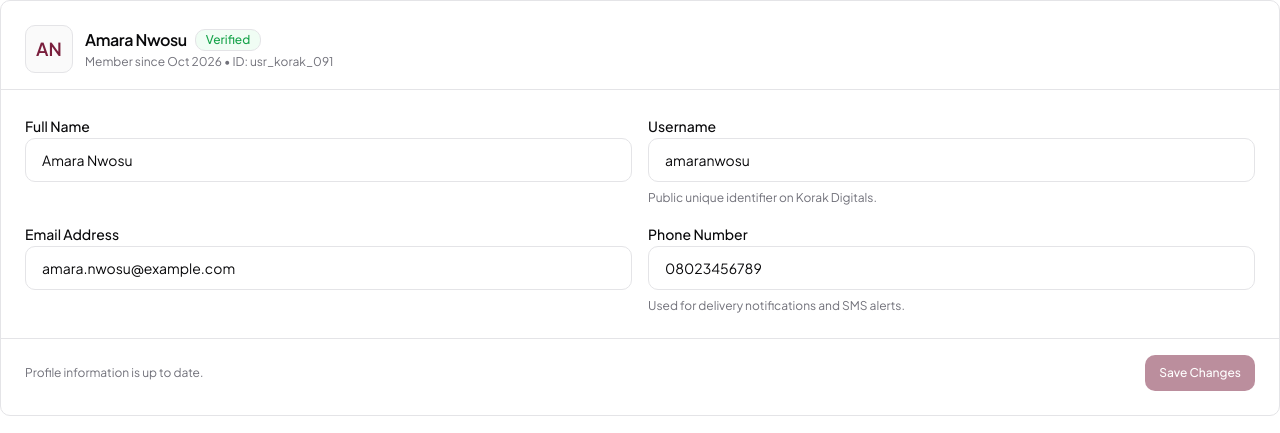
Test: ProfileEditForm (F13.1) › validates required fields and name length
Replace the text in the field labelled "Full Name" with "A" at (328, 160), box [25,138,632,182]
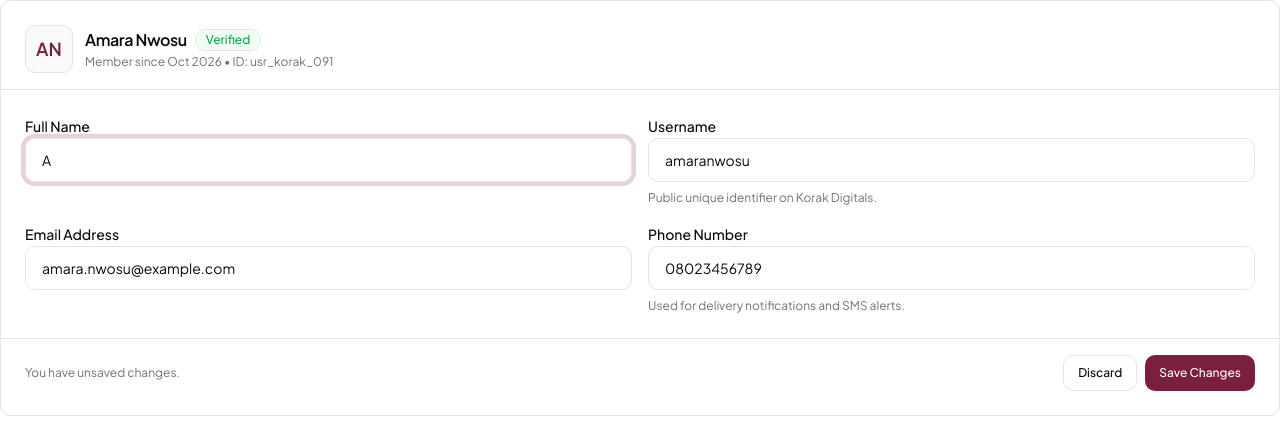
Click the button "Save Changes" at (1200, 373), box [1145,355,1255,391]
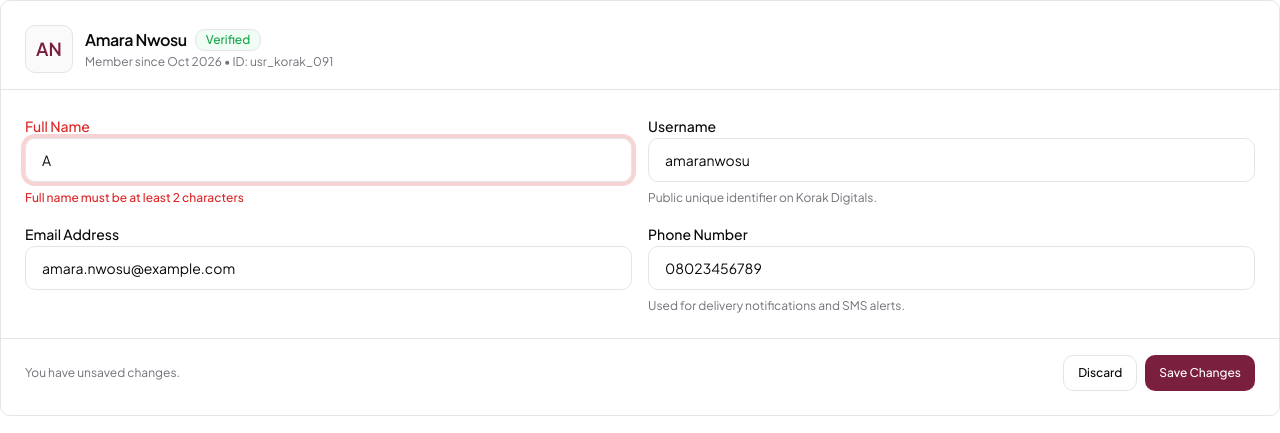
Expected: the text "Full name must be at least 2 characters" is shown, [25,190,244,205]
